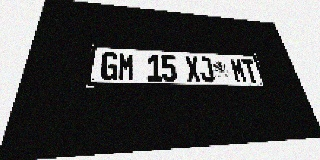1: (146, 54, 162, 81)
5: (161, 55, 177, 82)
G: (100, 52, 118, 81)
J: (197, 57, 215, 82)
M: (229, 58, 248, 83), (118, 53, 134, 81)
T: (241, 59, 260, 83)
X: (184, 56, 202, 82)
